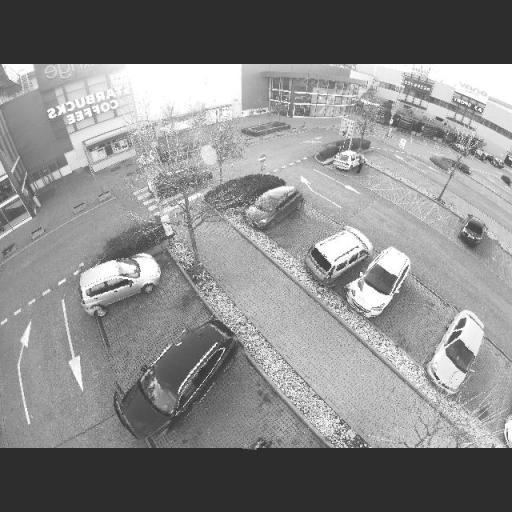busy: (110, 324, 254, 436), (75, 250, 160, 316), (346, 244, 416, 318), (426, 306, 486, 392), (302, 223, 373, 289), (244, 187, 306, 229), (455, 217, 487, 247), (332, 149, 366, 174), (313, 147, 340, 165), (486, 156, 503, 169)
free: (190, 403, 260, 448), (391, 292, 446, 345), (126, 308, 183, 345), (282, 220, 318, 246), (482, 239, 506, 271), (429, 210, 454, 232), (383, 176, 404, 202), (406, 193, 429, 213), (363, 168, 381, 188), (314, 180, 336, 192)
